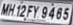character: (25, 4, 33, 18), (7, 3, 15, 16), (32, 4, 39, 18), (1, 3, 9, 15), (55, 6, 62, 19), (62, 7, 69, 20), (19, 5, 26, 17), (48, 6, 55, 18), (41, 6, 47, 18), (15, 4, 20, 17)
